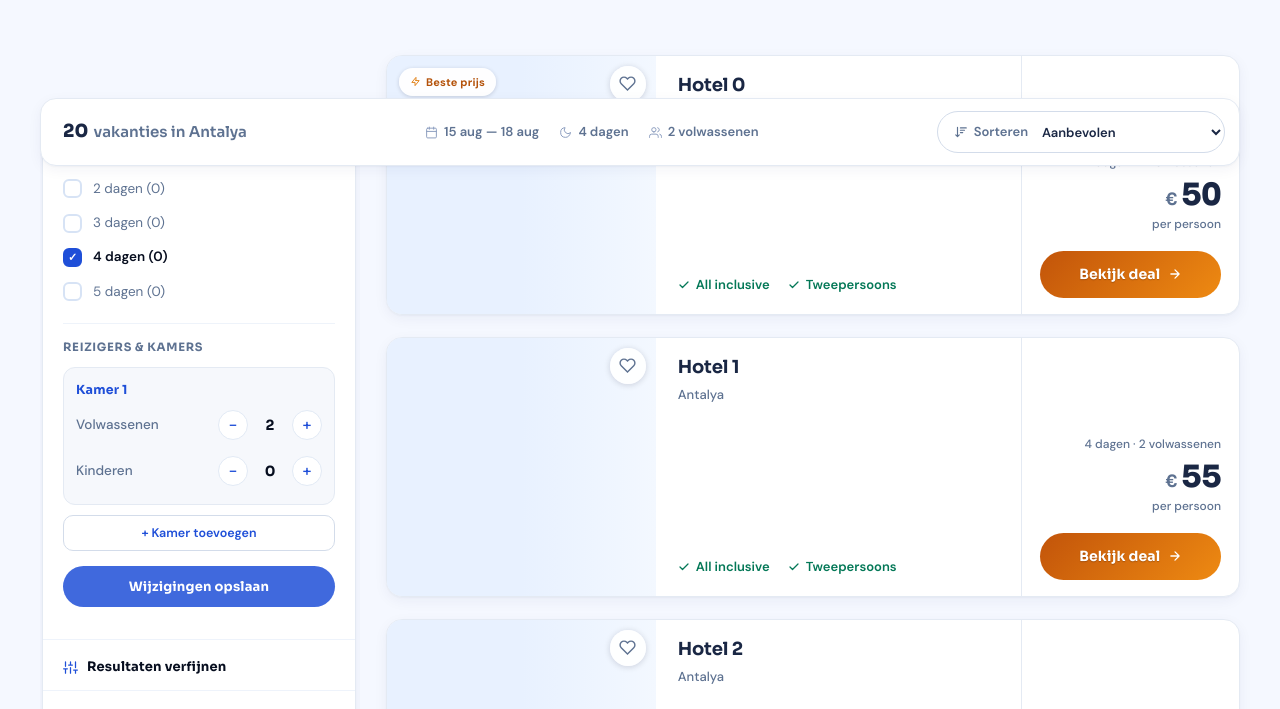
Test: sidebar layout › becomes pressable once a traveller changes
(page scrolled)
Click the button named "Meer volwassenen" at coordinates (307, 426), box [292,411,322,441]
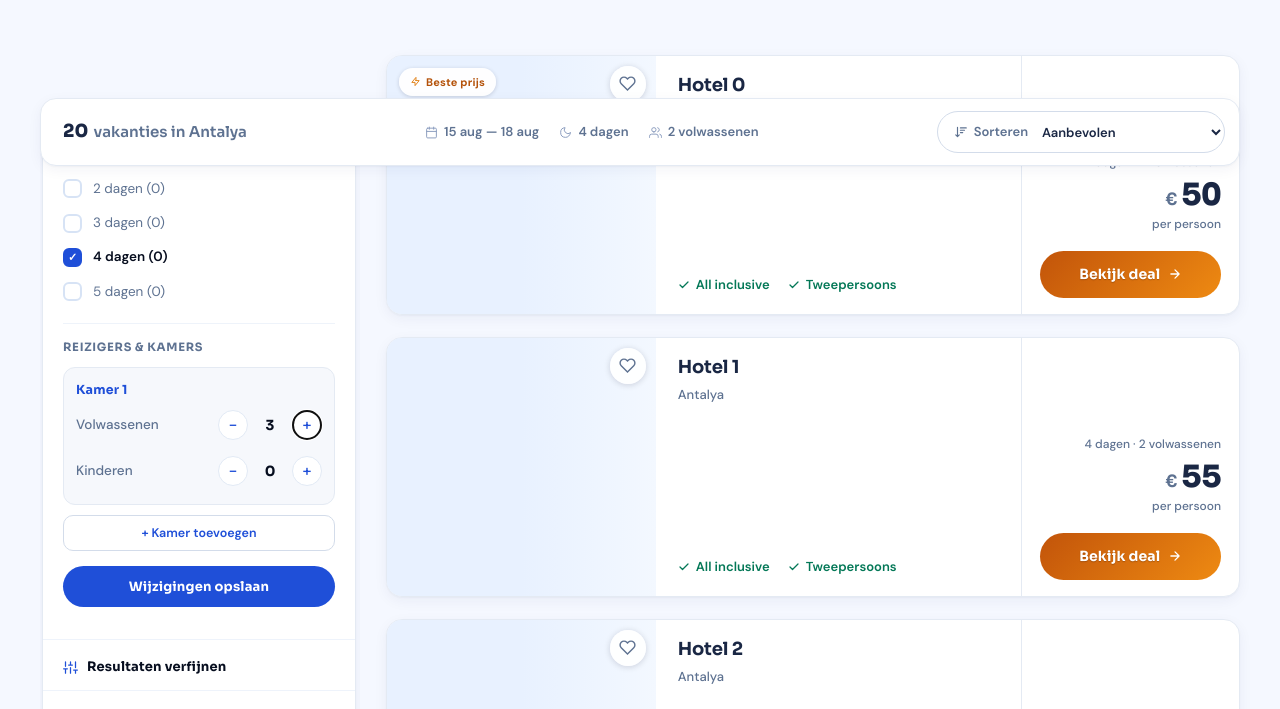
Expected: the button "Wijzigingen opslaan" is enabled, [63,567,335,608]
